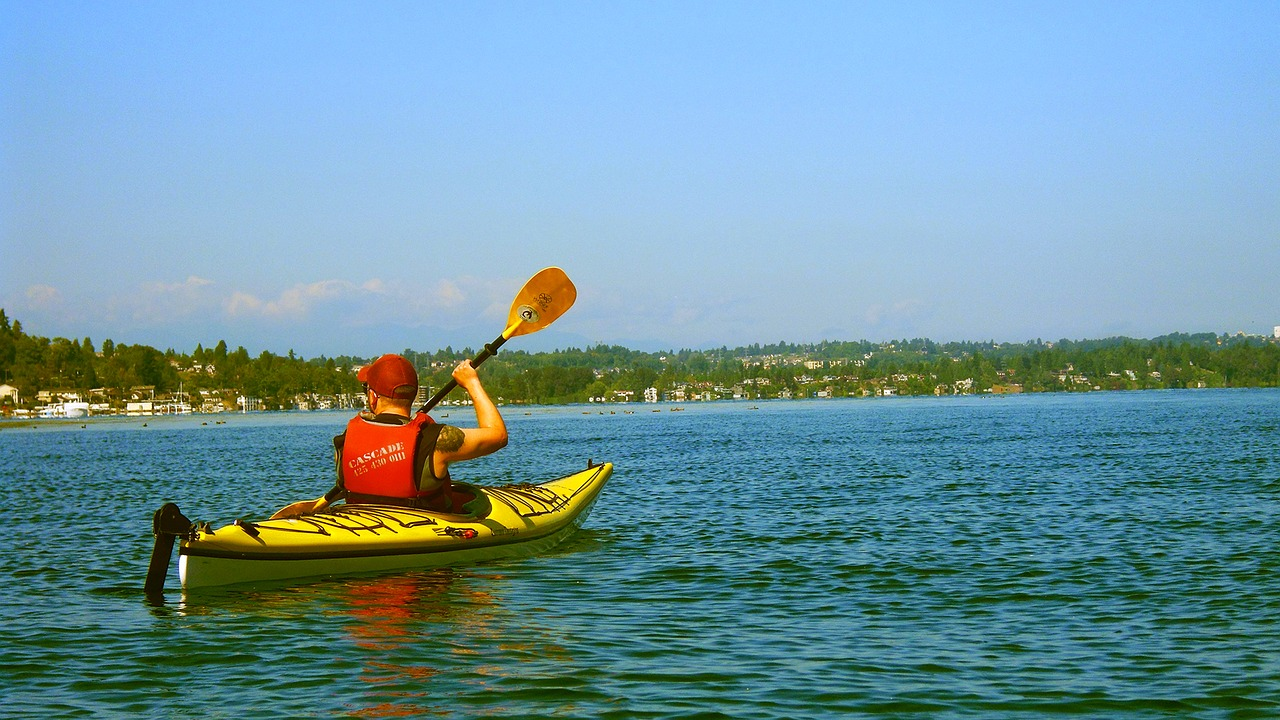kayak: (153, 454, 615, 594)
